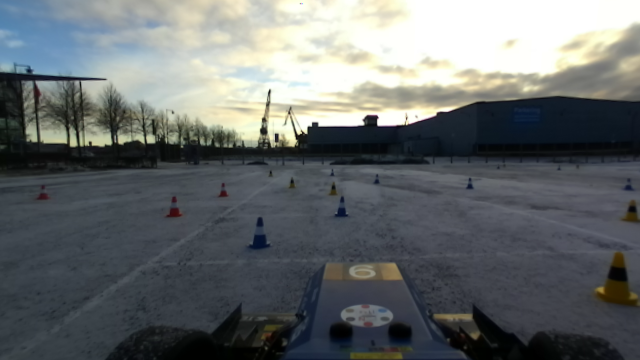blue: (247, 216, 270, 249), (333, 194, 349, 218), (463, 176, 474, 191), (371, 172, 382, 186)
orange: (164, 195, 184, 218), (37, 184, 49, 201), (218, 183, 229, 198)
yellow: (595, 249, 640, 305), (618, 198, 640, 225), (286, 176, 297, 191)
